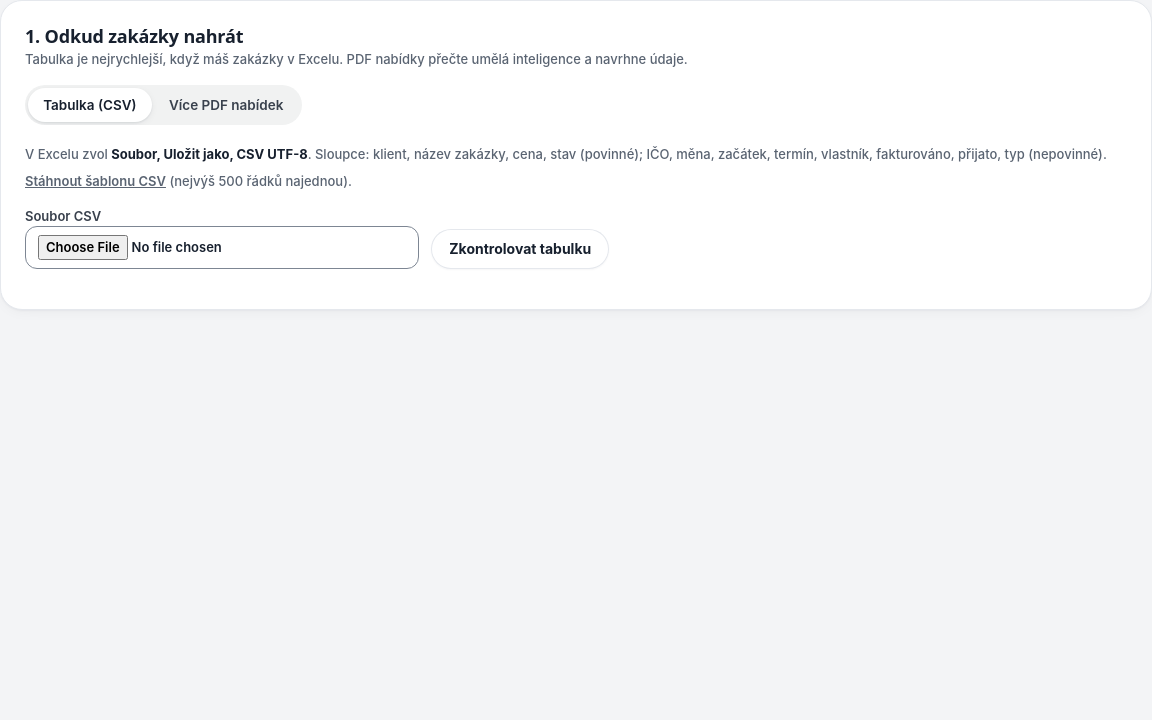
BulkImport: zdroje › tabulka: kontrola → Potvrdit vše zapíše jen připravené řádky, vznikne dávka a nabídne se Zpět
The width and height of the screenshot is (1152, 720).
Earlier steps of the test are not shown.
Later steps or results of the test are not shown.
What coordinates should you click on to do the following:
click the button "Zkontrolovat tabulku"
I would click on:
 (520, 249)
Its box is [431,229,609,269].
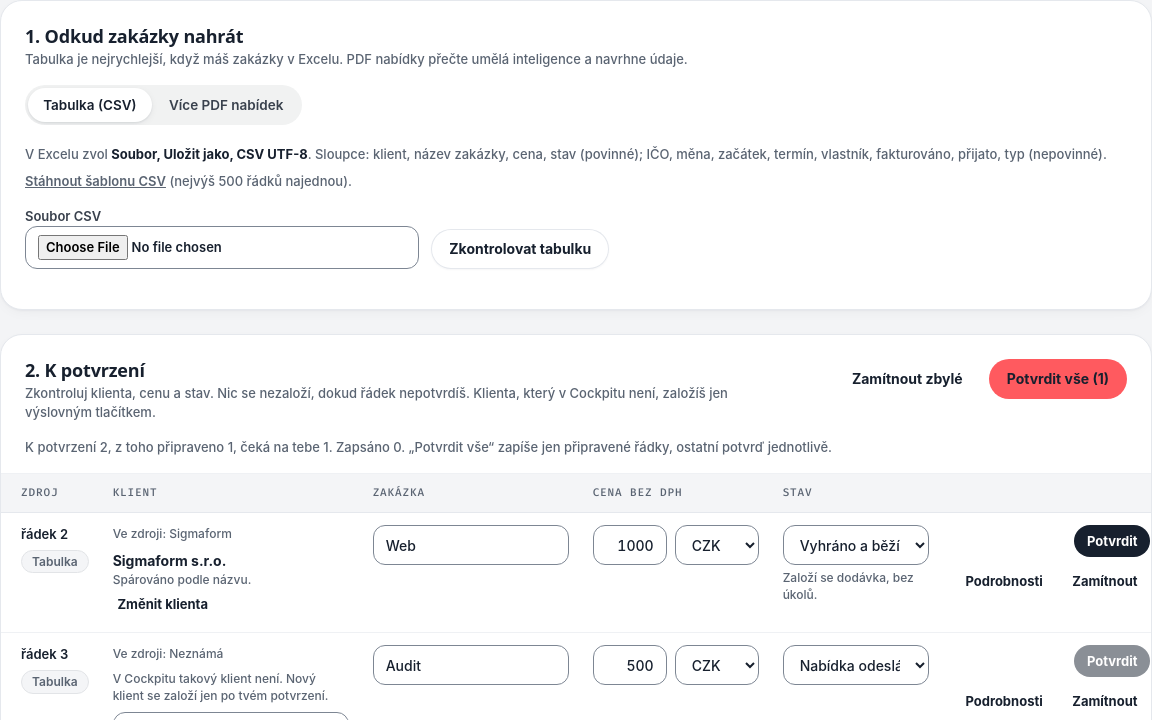
Now the text "2. K potvrzení" is shown, box [25,358,145,382]
Now the text "Potvrdit vše (1)" is shown
Now the text "čeká na tebe 1" is shown, box [233,439,329,455]
What coordinates should you click on to do the following:
click the button "Potvrdit vše (1)"
I would click on:
 (1058, 379)
Its box is [989,359,1127,399].
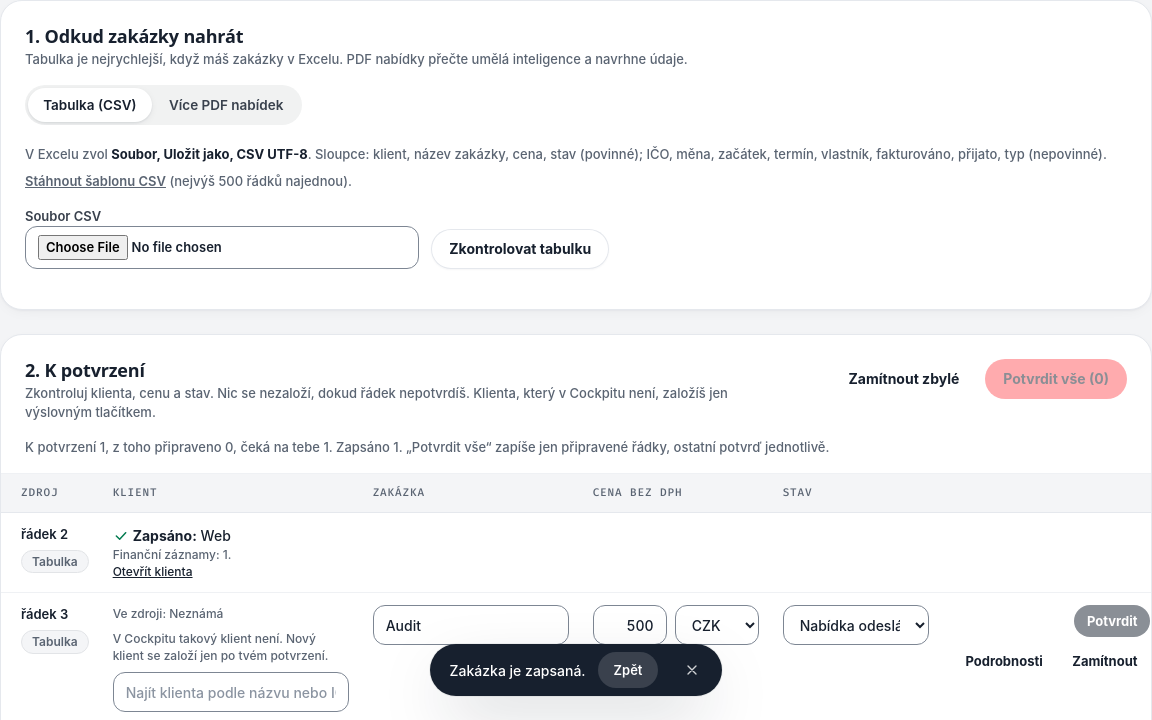
Now the text "Zapsáno:" is shown, box [133,527,197,544]
Now the text "Zakázka je zapsaná." is shown, box [450,662,586,678]
